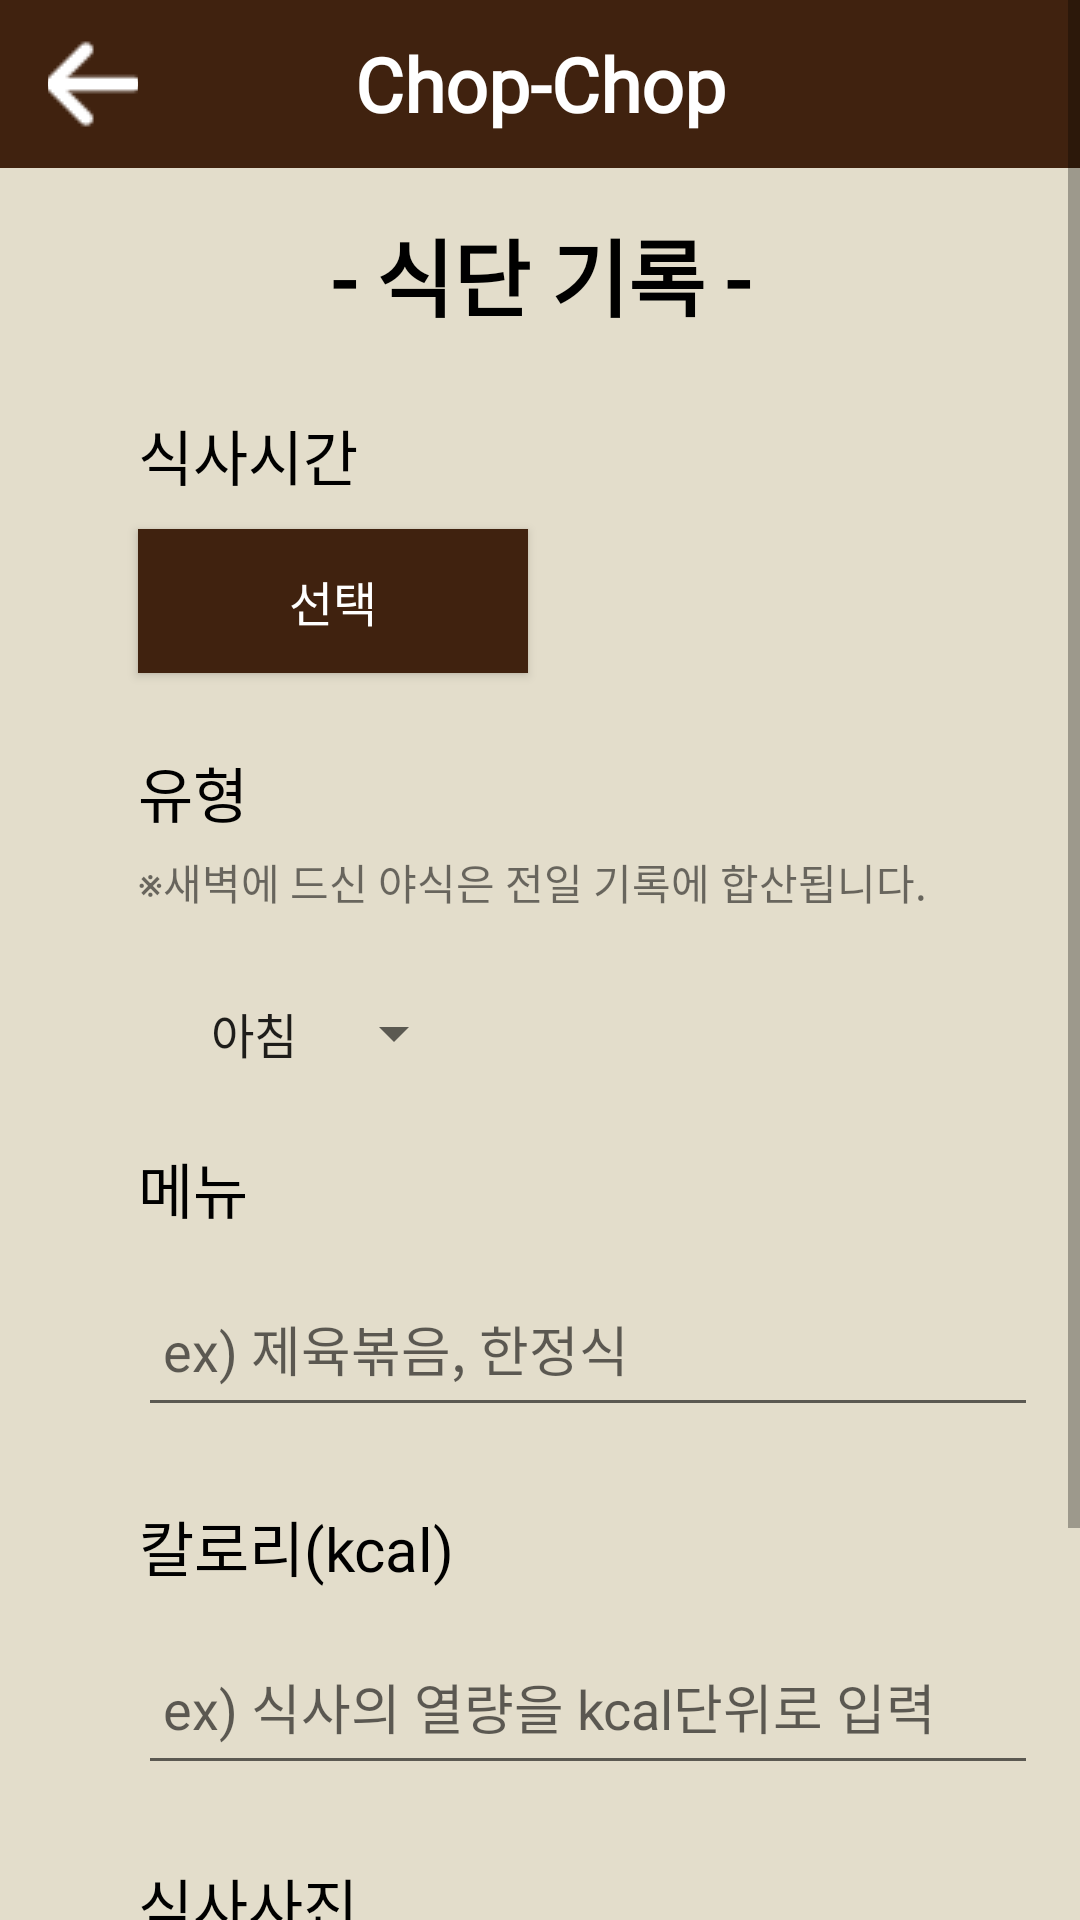

Icon bounding boxes for this 1080px×1920px phone screenshot, format (x1, y1, x2, y2):
back: (48, 41, 138, 127)
